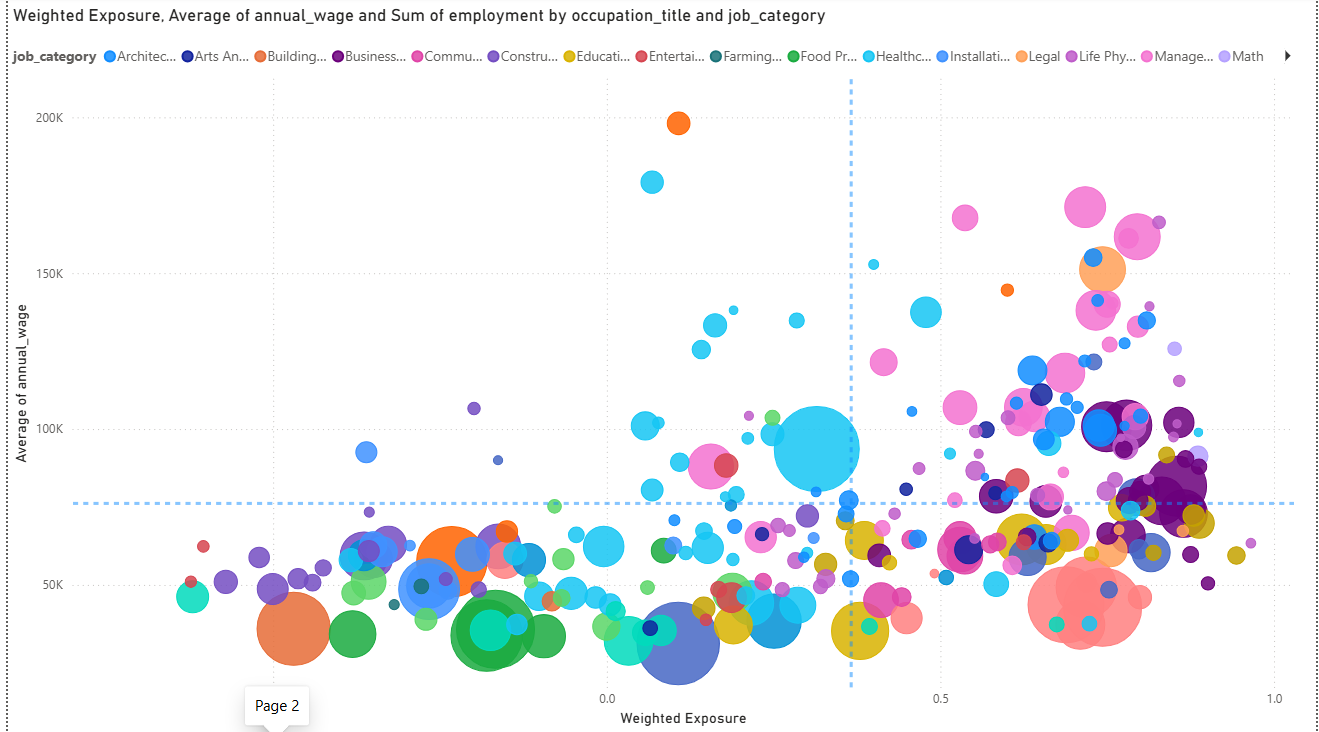

The page's visual inventory and layout, read from the dashboard file:
{"tool":"powerbi","page":{"name":"Page 2","canvas":[1280,720],"ordinal":1},"visuals":[{"type":"scatterChart","fields":{"Category":["Occupation.occupation_title"],"X":["Occupation.Weighted Exposure"],"Y":["Avg(Occupation.annual_wage)"],"Series":["Job_Categoriess.job_category"],"Size":["Sum(Occupation.employment)"]},"box":[0,9,1271.2,710.4],"z":0}]}

Visuals, with their boxes in screenshot pixels (x1, y1, x2, y2), scaled from the page's 1280x720 canvas onto the 1319x732 screenshot:
scatterChart - Occupation.occupation_title x Occupation.Weighted Exposure: bbox=(0, 9, 1310, 731)
